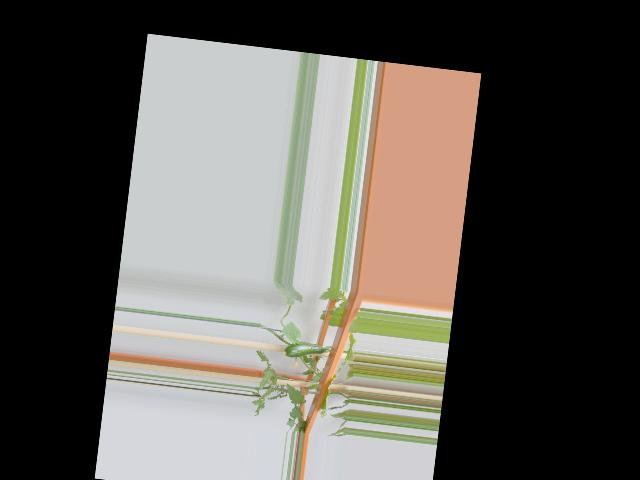cucumber: (280, 339, 324, 361)
